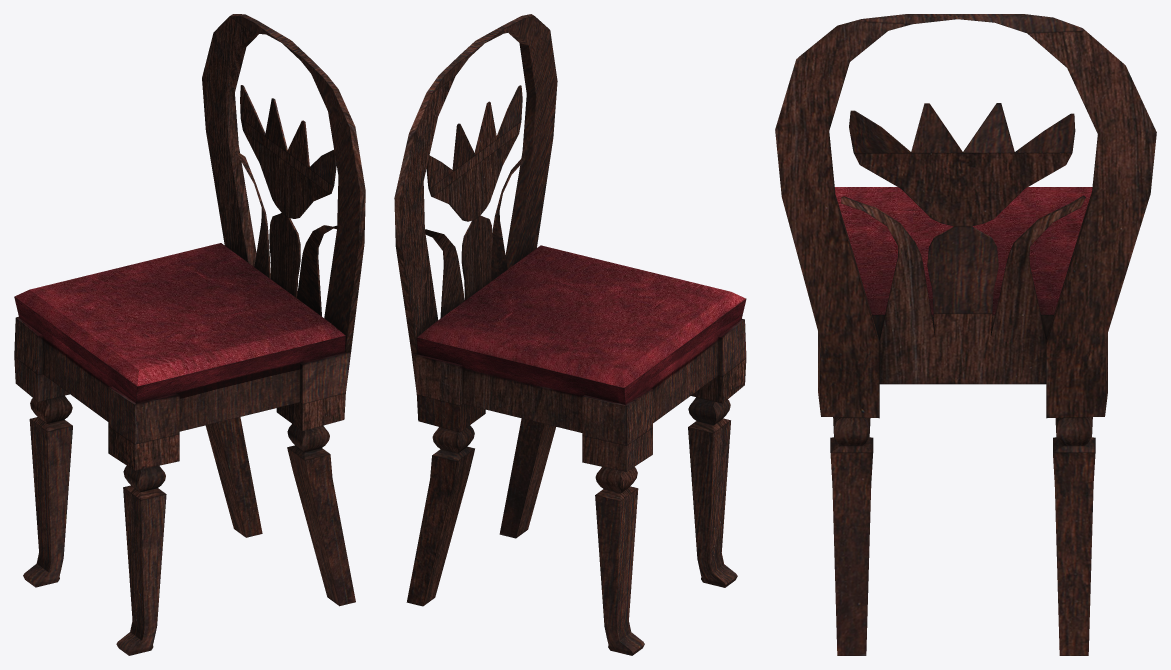
The model's file is crn_chair.fbx.
3 renders of one model, left to right at view 1: azimuth 30°, elevation 25°; view 2: azimuth 150°, elevation 25°; view 3: azimuth 270°, elevation 25°, orthographic. The views are drawn at different scales.
Parts seen in each view (by area): view 1: small_chair; view 2: small_chair; view 3: small_chair.
Part boxes in pixels (bbox=[...]): small_chair: bbox=[14, 14, 365, 655]; small_chair: bbox=[394, 14, 746, 655]; small_chair: bbox=[775, 14, 1156, 655].
Bounding box in the file's own units: 1.15 × 2.52 × 1.39.
